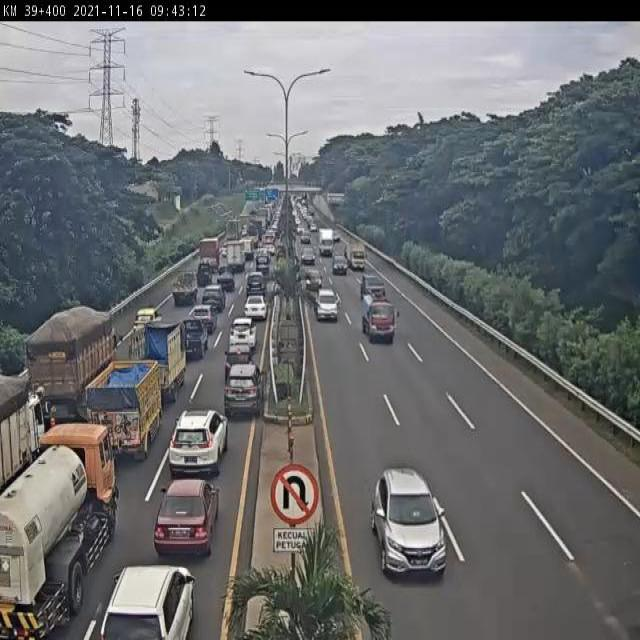car: (374, 468, 447, 575), (98, 565, 194, 640), (156, 478, 220, 558), (171, 409, 229, 476), (223, 364, 264, 419), (182, 319, 208, 361), (224, 344, 253, 380), (228, 318, 257, 350), (132, 308, 162, 337), (359, 272, 385, 303), (315, 288, 339, 321), (191, 304, 218, 332), (243, 294, 268, 318), (202, 286, 226, 310), (195, 261, 214, 287), (246, 272, 266, 295), (216, 267, 236, 289), (305, 266, 323, 290)
small truck: (88, 359, 163, 461), (127, 324, 186, 404), (361, 293, 396, 343), (171, 271, 201, 304)
truck-m-: (0, 421, 117, 640), (19, 308, 117, 417), (0, 378, 45, 498)
